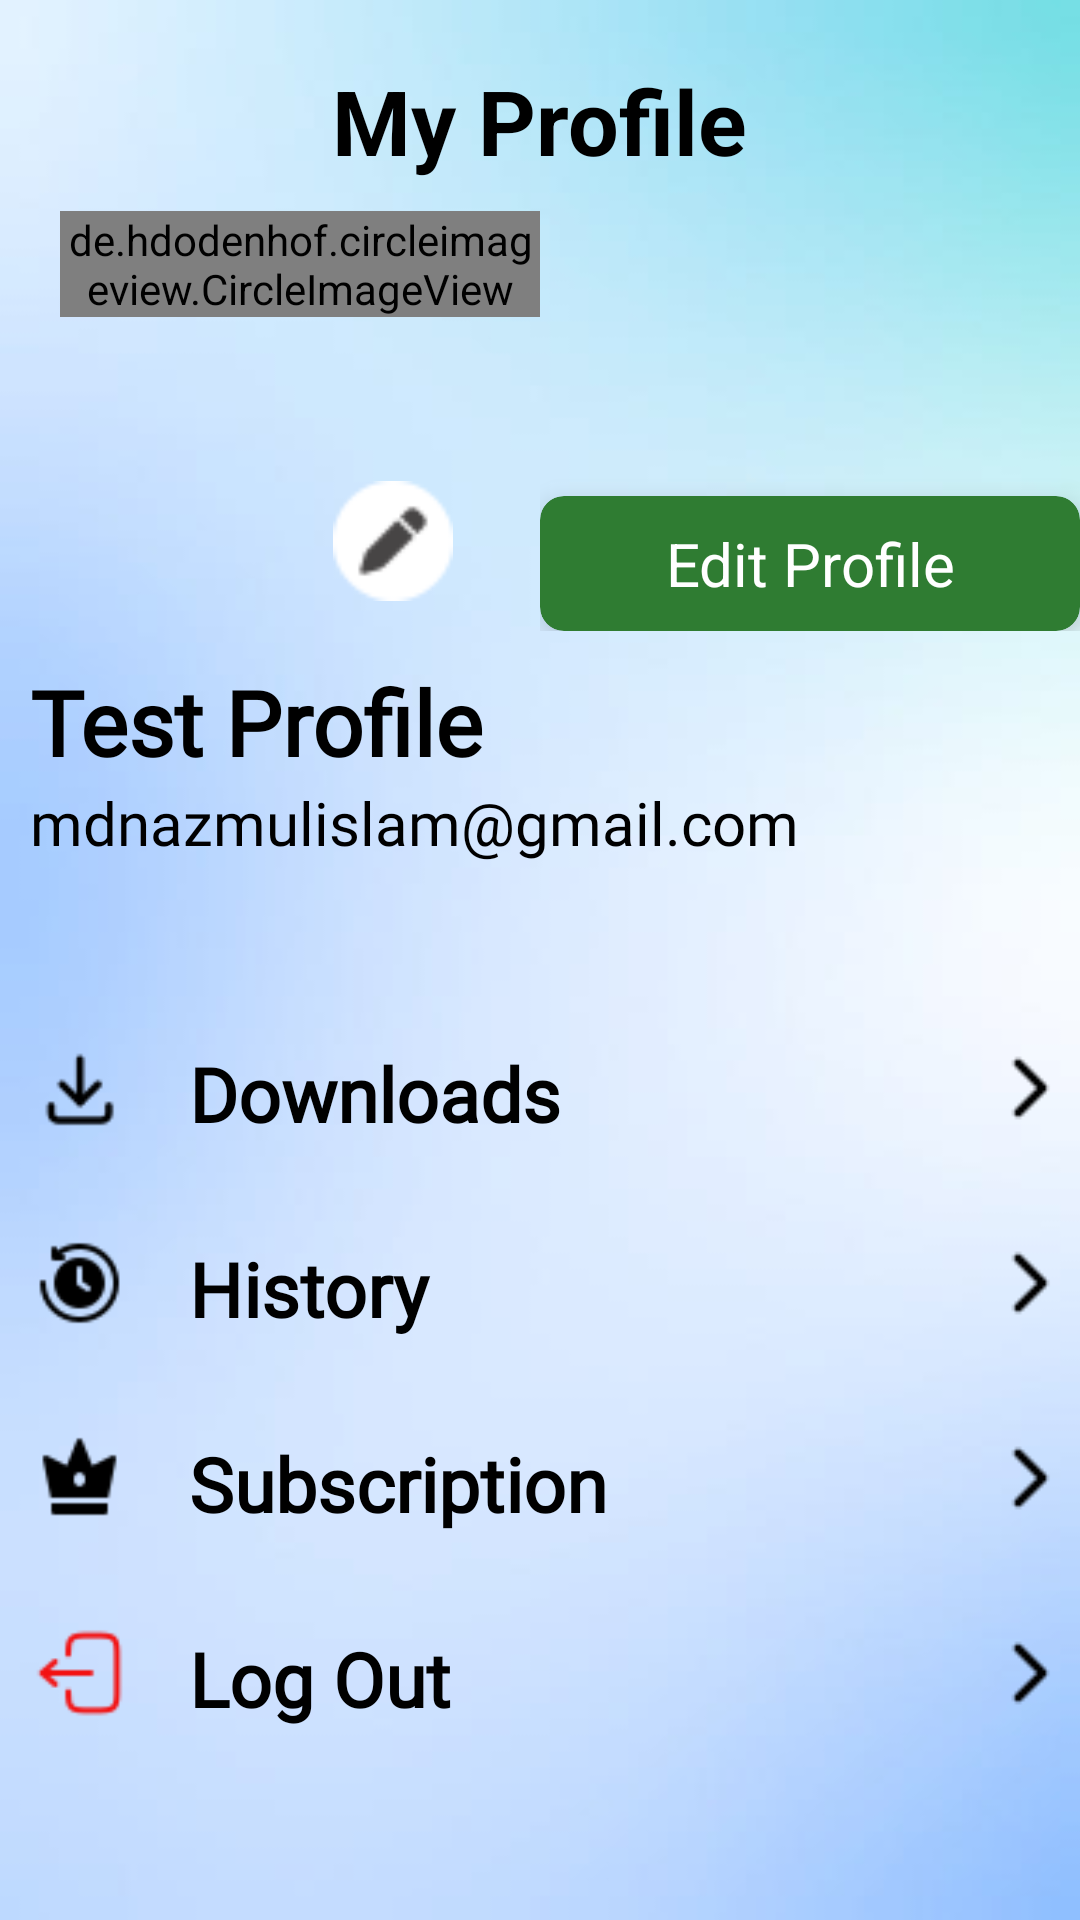

Named icons in this screenshot (1080 x 1920) and their centers, (x=x, y=y):
crown: (x=79, y=1477)
edit pen: (x=393, y=541)
right: (x=1030, y=1088), (x=1030, y=1283), (x=1030, y=1478), (x=1030, y=1673)
